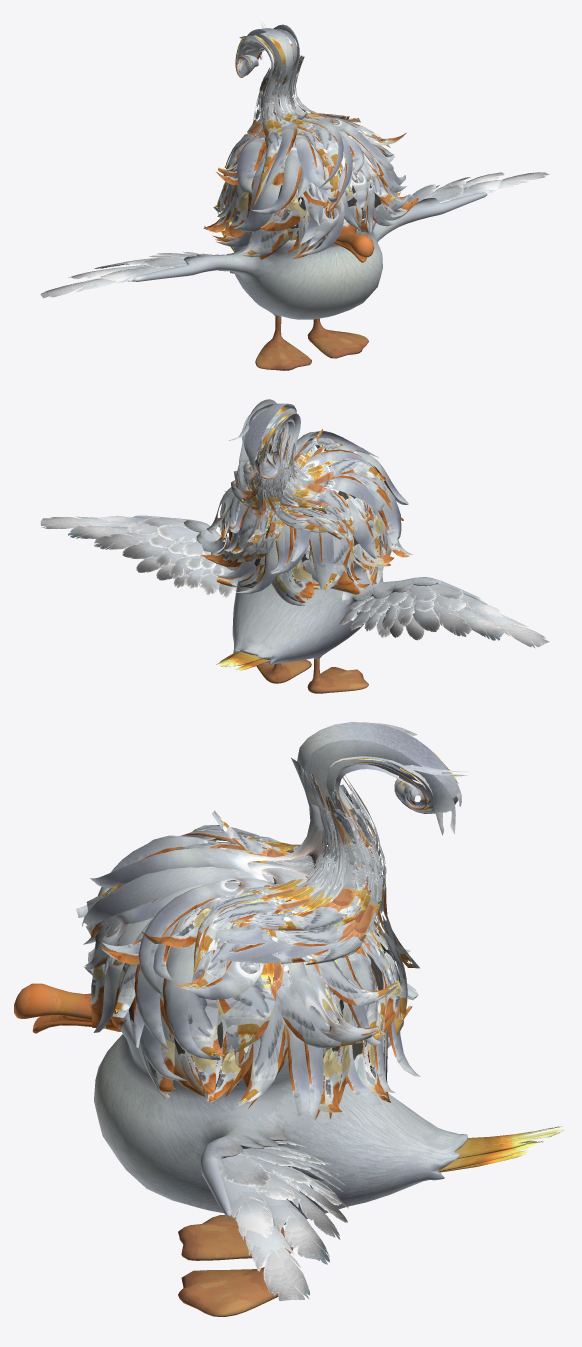
Rendered from chirpi.glb.
3 views of the same model, one above another, from view 1: azimuth 30°, elevation 25°; view 2: azimuth 150°, elevation 25°; view 3: azimuth 270°, elevation 25° (orthographic). The views are drawn at different scales.
Parts seen in each view (by area): view 1: M_Parmon_10181_Body_941285856.obj; view 2: M_Parmon_10181_Body_941285856.obj; view 3: M_Parmon_10181_Body_941285856.obj.
Part boxes in pixels (x1,y1,x2,y2): M_Parmon_10181_Body_941285856.obj: (40,20,549,370); M_Parmon_10181_Body_941285856.obj: (40,399,549,693); M_Parmon_10181_Body_941285856.obj: (14,722,564,1316).
Bounding box in the file's own units: 1.6 × 0.8215 × 0.7587.
Materials: 2 (2 with a texture image).
